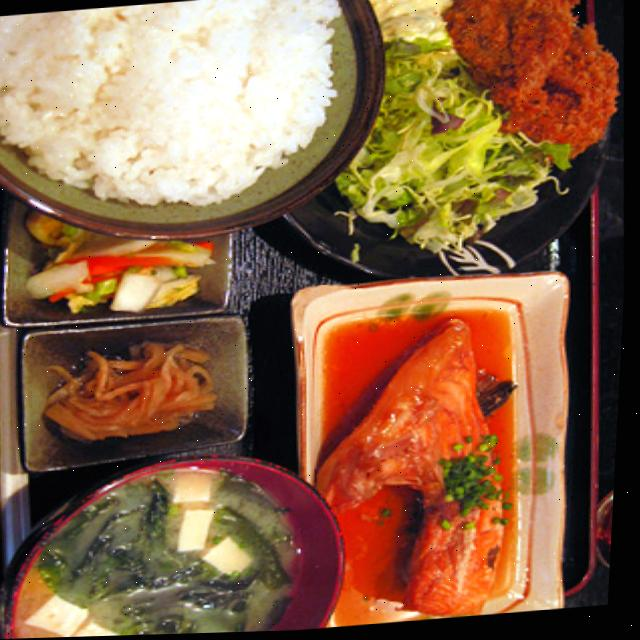熟制海鲜: (78, 283, 482, 625)
